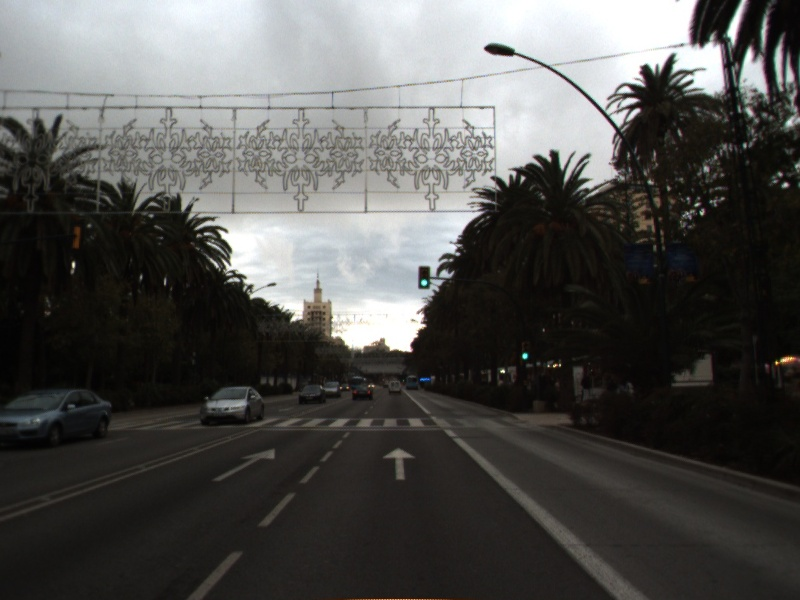STRAIGHT: (209, 446, 277, 483), (381, 445, 418, 482)
